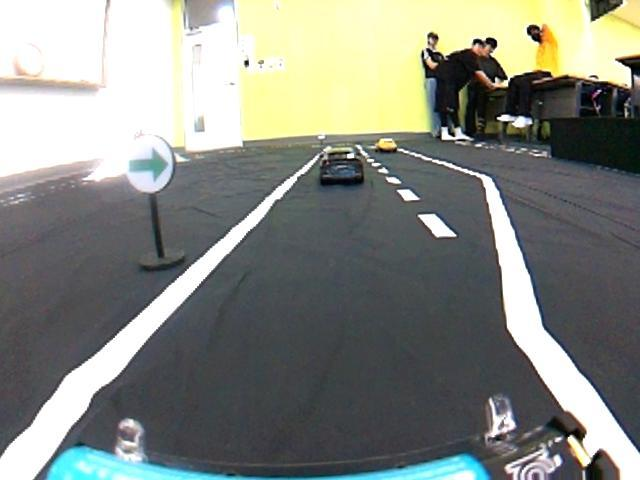car: (315, 143, 370, 184), (373, 134, 397, 151)
sign_right: (115, 128, 176, 197)
straight: (0, 207, 640, 479)
